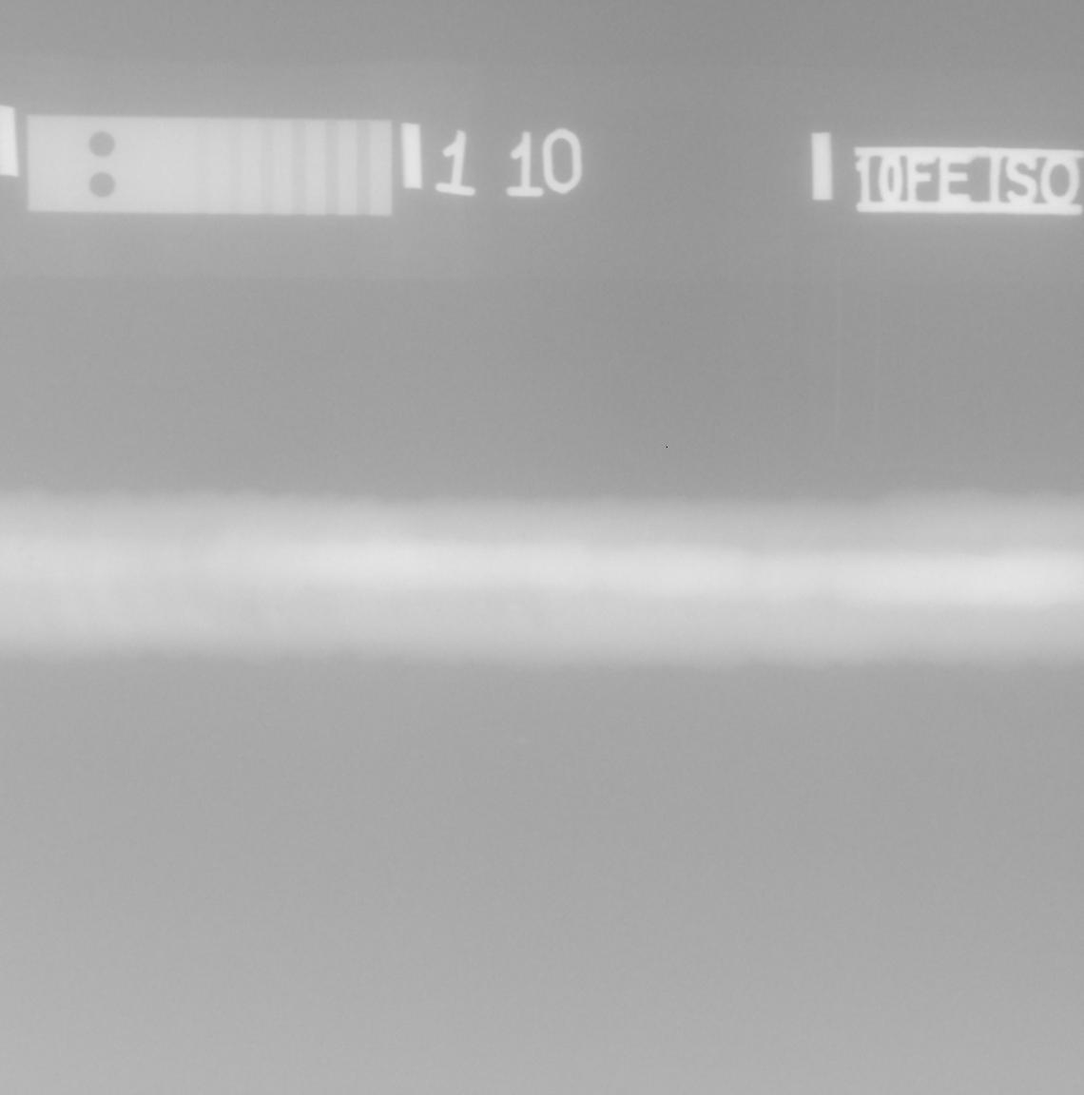Pore/Porosity: (273, 605, 281, 615)
Reference Standard 2: (27, 115, 393, 216)
